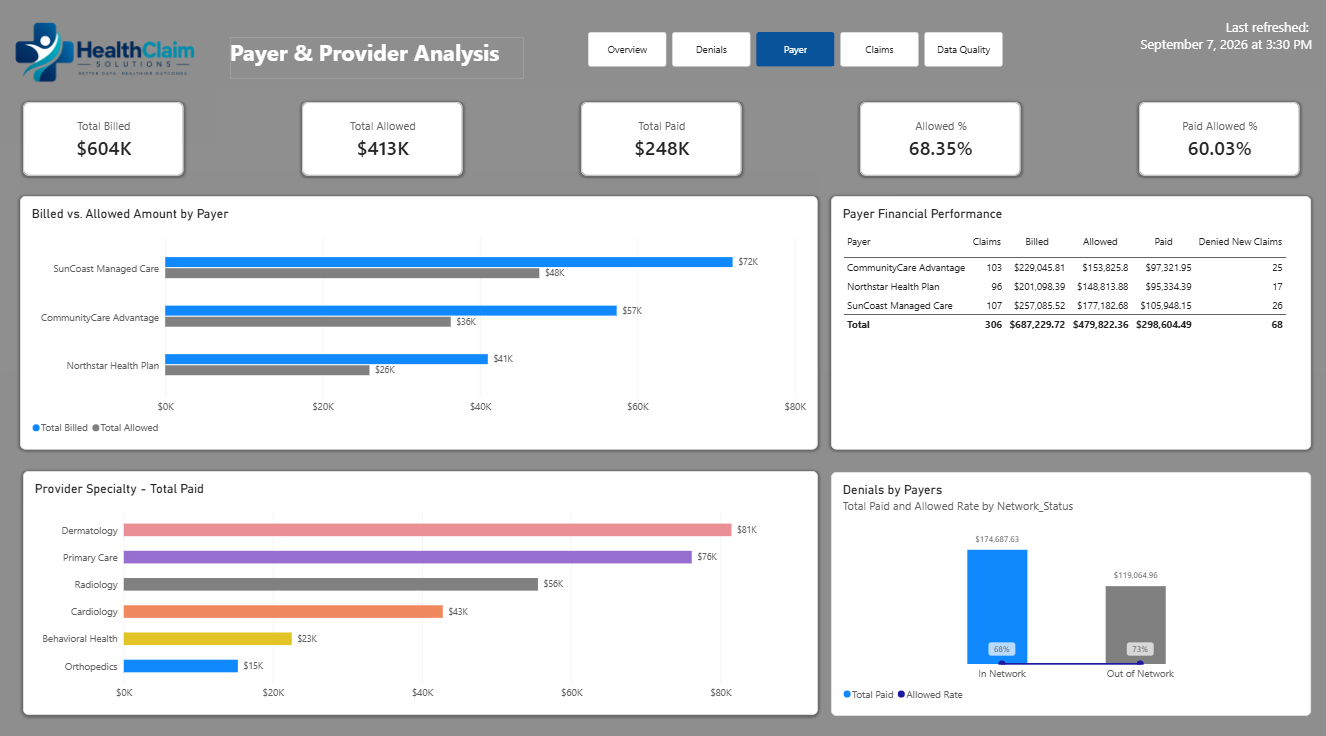

This screenshot's page, from the dashboard's own definition file:
{"tool":"powerbi","page":{"name":"Payer","canvas":[1920,1080],"ordinal":2},"visuals":[{"type":"cardVisual","title":"Governed Claim %","fields":{"Data":["reporting vw_ClaimsAnalytics.1_Allowed Rate"]},"box":[1243.8,152,231,106],"z":0},{"type":"clusteredBarChart","title":"Billed vs. Allowed Amount by Payer","fields":{"Category":["reporting vw_ClaimsAnalytics.Payer_Name"],"Y":["reporting vw_ClaimsAnalytics.2_Payer Total Billed","reporting vw_ClaimsAnalytics.2_Payer Total Allowed"]},"box":[35.1,288.5,1148.1,364.5],"z":1000},{"type":"clusteredBarChart","title":"Provider Specialty - Total Paid","fields":{"Category":["reporting vw_ClaimsAnalytics.Specialty"],"Y":["reporting vw_ClaimsAnalytics.3_Total Paid"]},"box":[39,684.2,1144.2,350.9],"z":2000},{"type":"tableEx","title":"Payer Financial Performance","fields":{"Values":["reporting vw_ClaimsAnalytics.Payer_Name","reporting vw_ClaimsAnalytics.Claim Line Records","Sum(reporting vw_ClaimsAnalytics.Billed_Amount)","Sum(reporting vw_ClaimsAnalytics.Allowed_Amount)","Sum(reporting vw_ClaimsAnalytics.Paid_Amount)","reporting vw_ClaimsAnalytics.Denied New Claim Lines"]},"box":[1202.3,288.1,691.1,364.7],"z":3000},{"type":"lineClusteredColumnComboChart","title":"Denials by Payers","fields":{"Category":["reporting vw_ClaimsAnalytics.Network_Status"],"Y":["reporting vw_ClaimsAnalytics.4_Total Paid"],"Y2":["reporting vw_ClaimsAnalytics.4_Allowed Rate"]},"box":[1202.3,684.4,691.1,351.4],"z":4000},{"type":"image","box":[0,0,309.9,177.4],"z":5000},{"type":"pageNavigator","box":[852.3,51.9,600,50],"z":6000},{"type":"textbox","box":[1569.1,31.2,325.5,64.3],"z":7000},{"type":"textbox","box":[337.2,58.5,423,60.4],"z":8000},{"type":"cardVisual","title":"Governed Claim %","fields":{"Data":["reporting vw_ClaimsAnalytics.Total Billed"]},"box":[39,152,231.2,106],"z":9000},{"type":"cardVisual","title":"Governed Claim %","fields":{"Data":["reporting vw_ClaimsAnalytics.Total Allowed"]},"box":[440.6,152,231.2,106],"z":10000},{"type":"cardVisual","title":"Governed Claim %","fields":{"Data":["reporting vw_ClaimsAnalytics.Total Paid"]},"box":[842.2,152,231.2,106],"z":11000},{"type":"cardVisual","title":"Governed Claim %","fields":{"Data":["reporting vw_ClaimsAnalytics.1_Paid to Allowed Rate"]},"box":[1645.2,152,231,106],"z":12000}]}

Visuals, with their boxes in screenshot pixels (x1, y1, x2, y2), scaled from the page's 1920x1080 canvas onto the 1326x736 screenshot:
"Governed Claim %" cardVisual: 859/104/1019/176
"Billed vs. Allowed Amount by Payer" clusteredBarChart: 24/197/817/445
"Provider Specialty - Total Paid" clusteredBarChart: 27/466/817/705
"Payer Financial Performance" tableEx: 830/196/1308/445
"Denials by Payers" lineClusteredColumnComboChart: 830/466/1308/706
image: 0/0/214/121
pageNavigator: 589/35/1003/69
textbox: 1084/21/1308/65
textbox: 233/40/525/81
"Governed Claim %" cardVisual: 27/104/187/176
"Governed Claim %" cardVisual: 304/104/464/176
"Governed Claim %" cardVisual: 582/104/741/176
"Governed Claim %" cardVisual: 1136/104/1296/176
